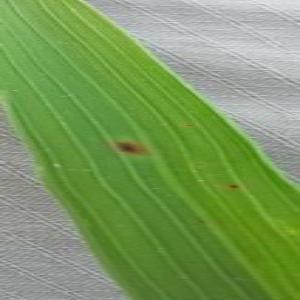0 BrownSpot: (108, 132, 155, 164), (223, 179, 243, 194), (179, 119, 197, 132), (193, 215, 210, 226)
